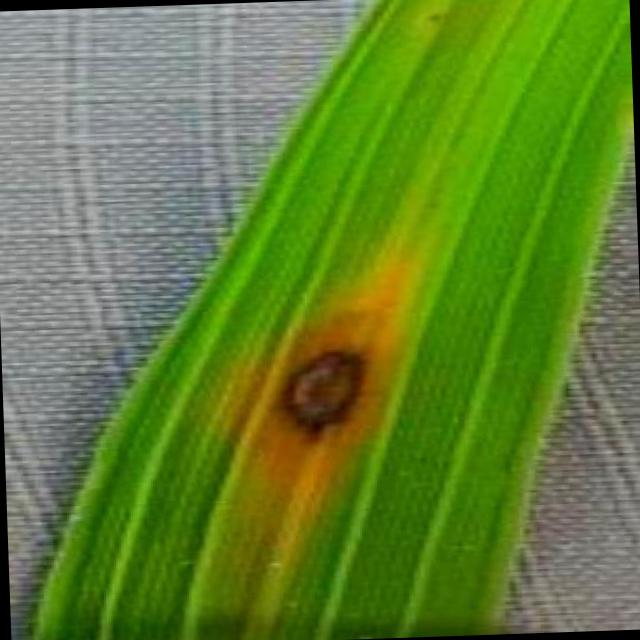Rice_Brownspot: (250, 326, 392, 461), (418, 1, 451, 26)
